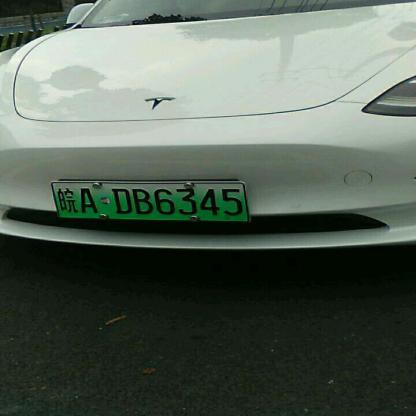lp: (51, 181, 58, 219)
